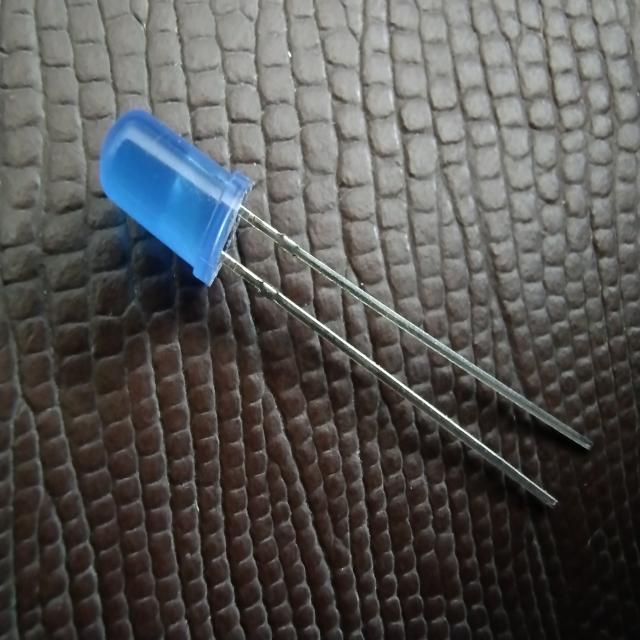blue_led: (98, 106, 255, 288)
